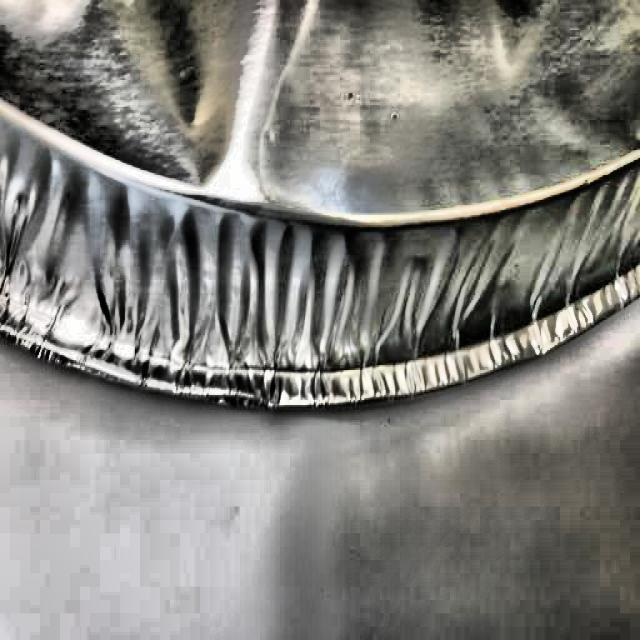metal: (0, 4, 640, 415)
